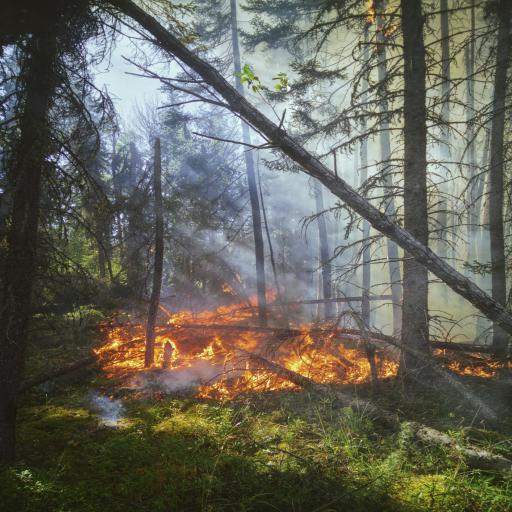wildfire: (0, 130, 512, 512)
